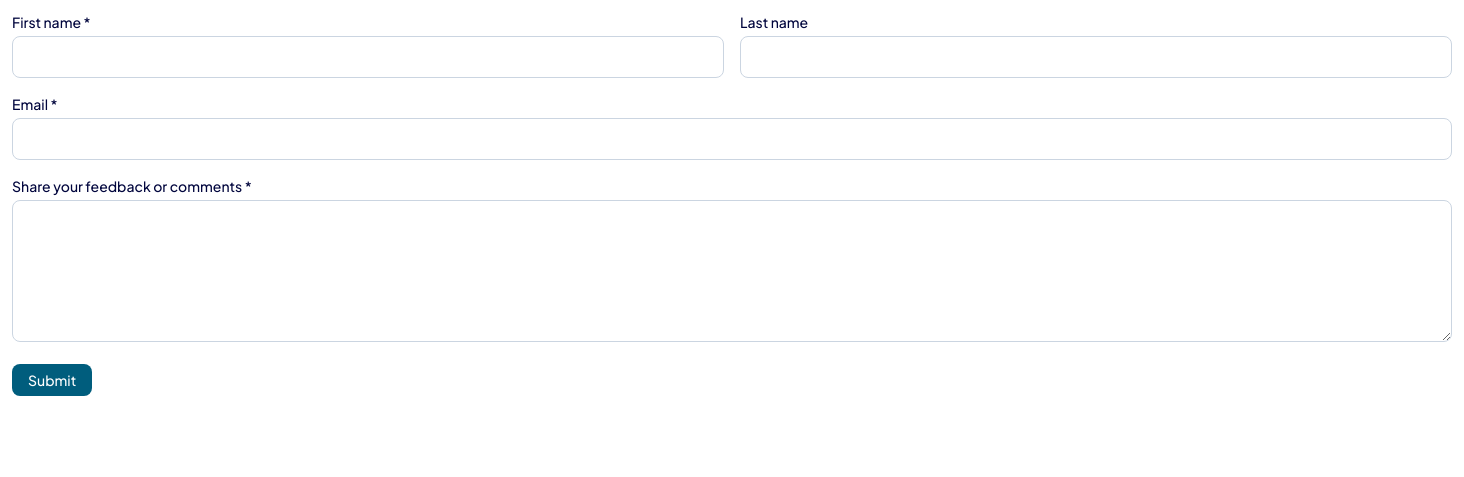
Test: ContactForm › clears a field's error once the visitor edits it
The image size is (1464, 477).
Click the button "Submit" at (52, 380), box [12,364,92,396]
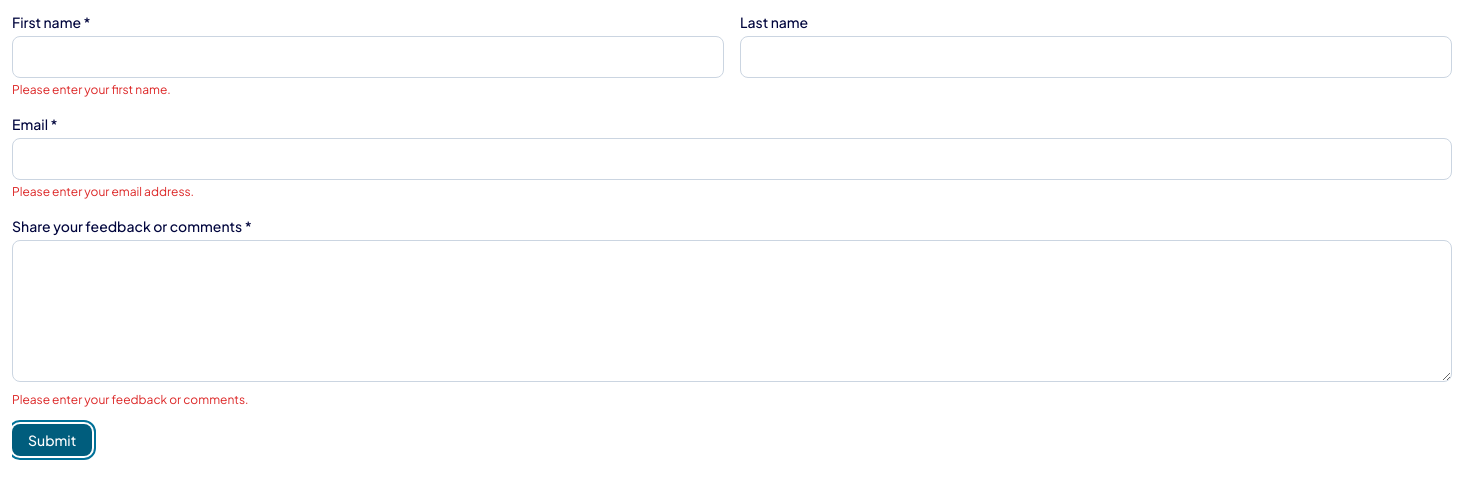
Type "A" into the field labelled "First name *" at (368, 57), box [12,36,724,78]
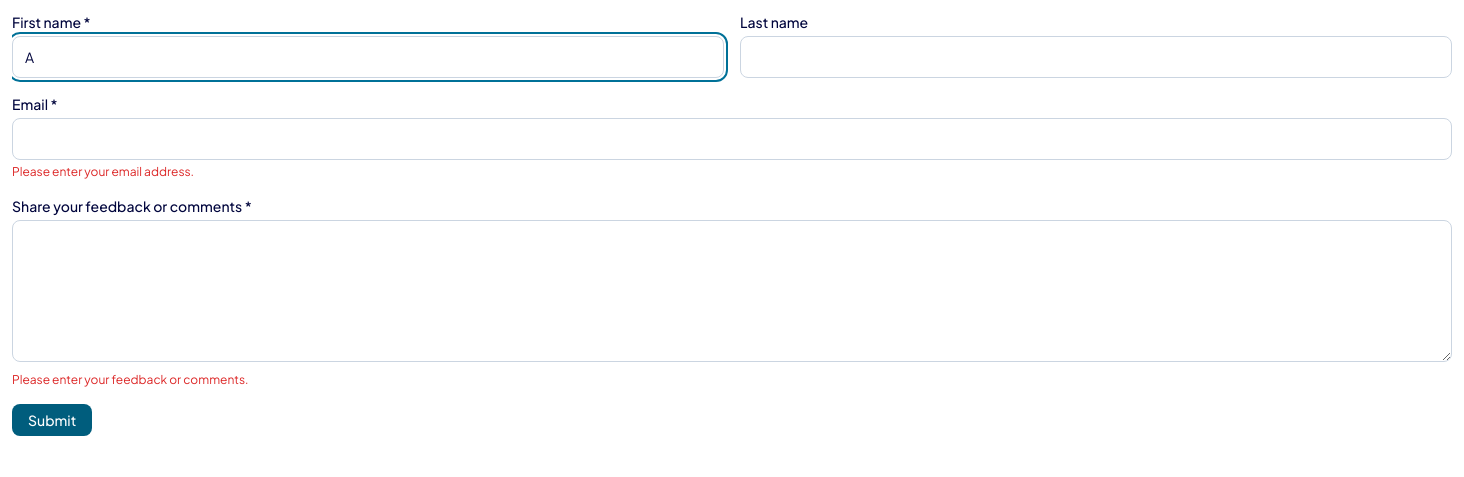
Expected: the text "Please enter your email address." is shown, [12,164,194,179]
Expected: the text "Please enter your first name." is gone
